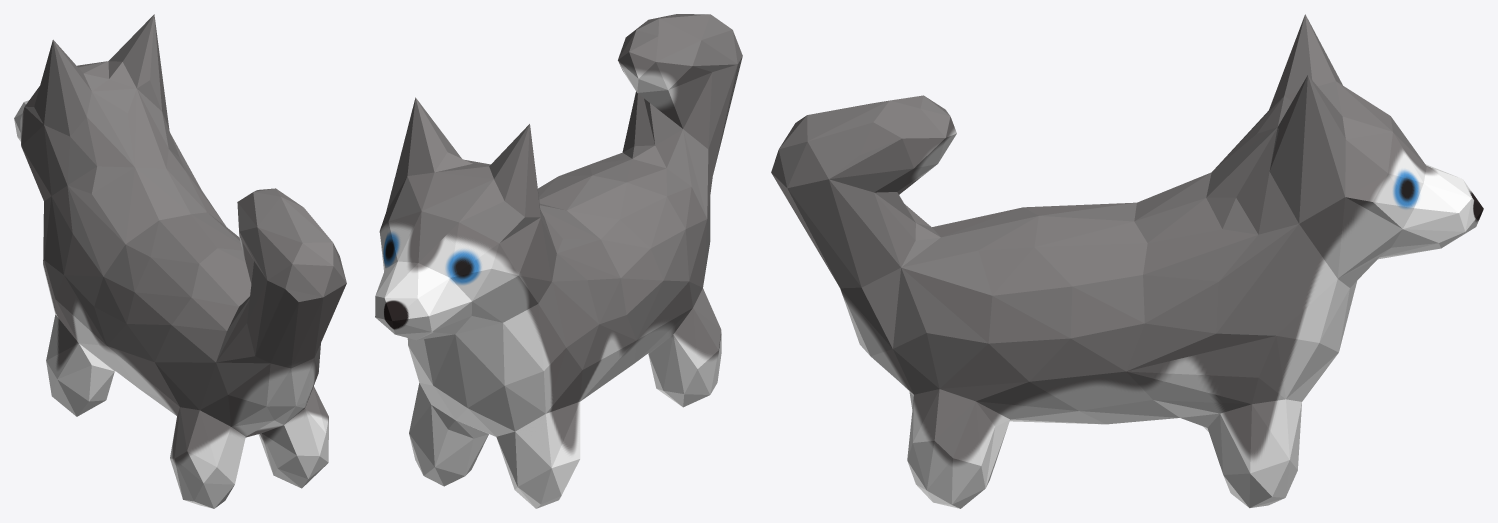
Rendered from animal_husky_blob.obj.
3 renders of one model, left to right at view 1: azimuth 30°, elevation 25°; view 2: azimuth 150°, elevation 25°; view 3: azimuth 270°, elevation 25°, orthographic. The views are drawn at different scales.
Parts seen in each view (by area): view 1: animal_husky_blob; view 2: animal_husky_blob; view 3: animal_husky_blob.
Boxes of the visible parts, x1=… form: animal_husky_blob: x1=14, y1=14, x2=346, y2=508; animal_husky_blob: x1=375, y1=14, x2=742, y2=508; animal_husky_blob: x1=771, y1=14, x2=1483, y2=508.
Bounding box in the file's own units: 0.353 × 0.7928 × 1.17.
